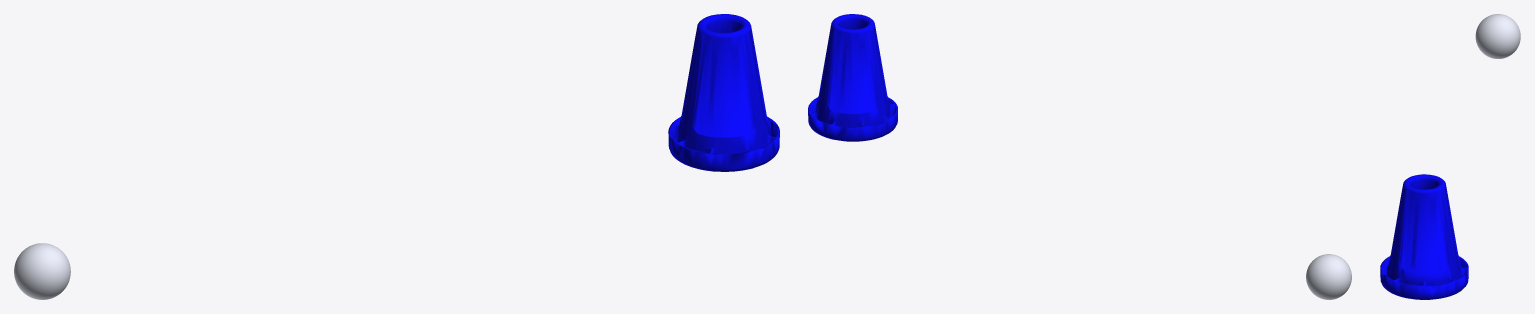
File: bluecone-1.fbx
3 views of the same model, side by side, from view 1: azimuth 30°, elevation 25°; view 2: azimuth 150°, elevation 25°; view 3: azimuth 270°, elevation 25° (orthographic). The views are drawn at different scales.
Parts seen in each view (by area): view 1: Body1, Body1.141; view 2: Body1, Body1.141; view 3: Body1, Body1.141.
Boxes of the visible parts, <box> form: Body1: <box>668,14,779,171</box>; Body1.141: <box>14,243,70,299</box>; Body1: <box>808,14,897,141</box>; Body1.141: <box>1306,254,1351,299</box>; Body1: <box>1380,174,1468,299</box>; Body1.141: <box>1475,14,1520,58</box>.
Size of the model in its own units: 74.42 by 15.29 by 16.1.
